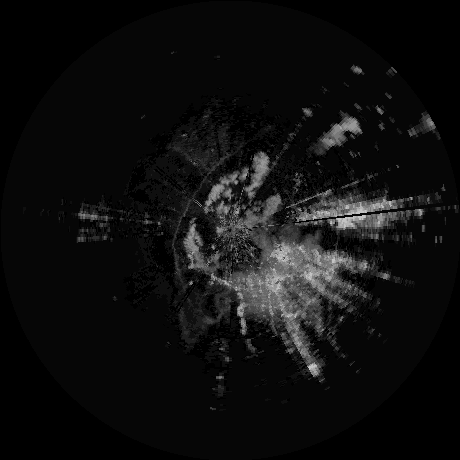frontgust: (171, 209, 185, 307)
